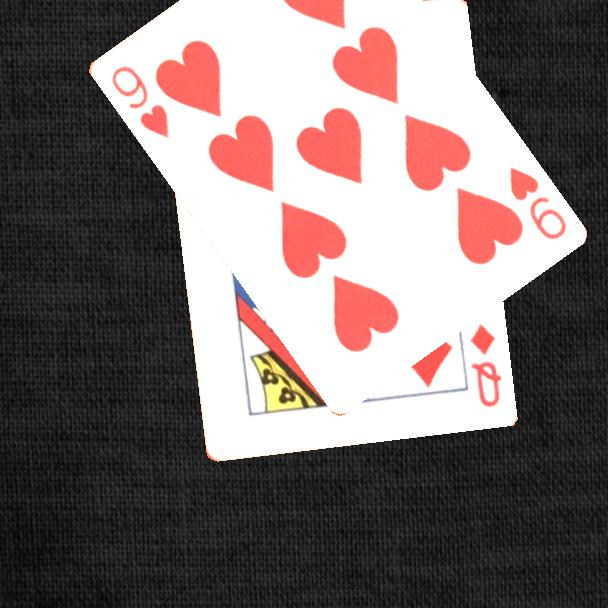d12: (465, 320, 504, 410)
h09: (107, 62, 172, 141), (505, 163, 569, 243)
